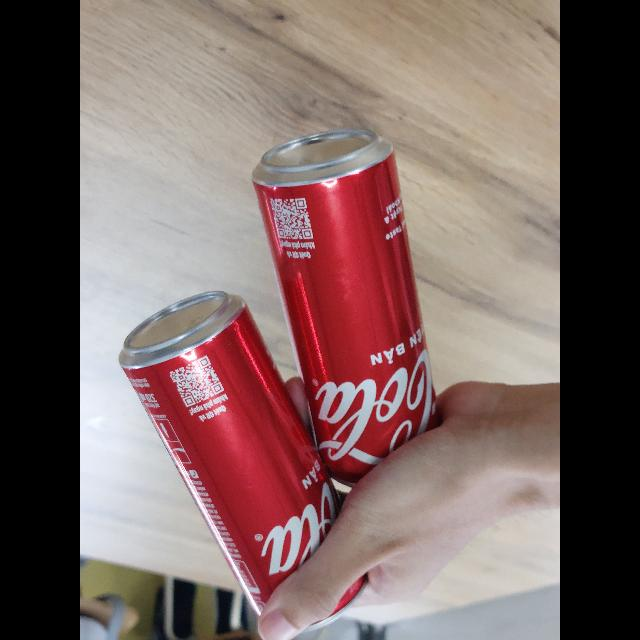coca_cola: (117, 288, 364, 636), (250, 131, 450, 492)
